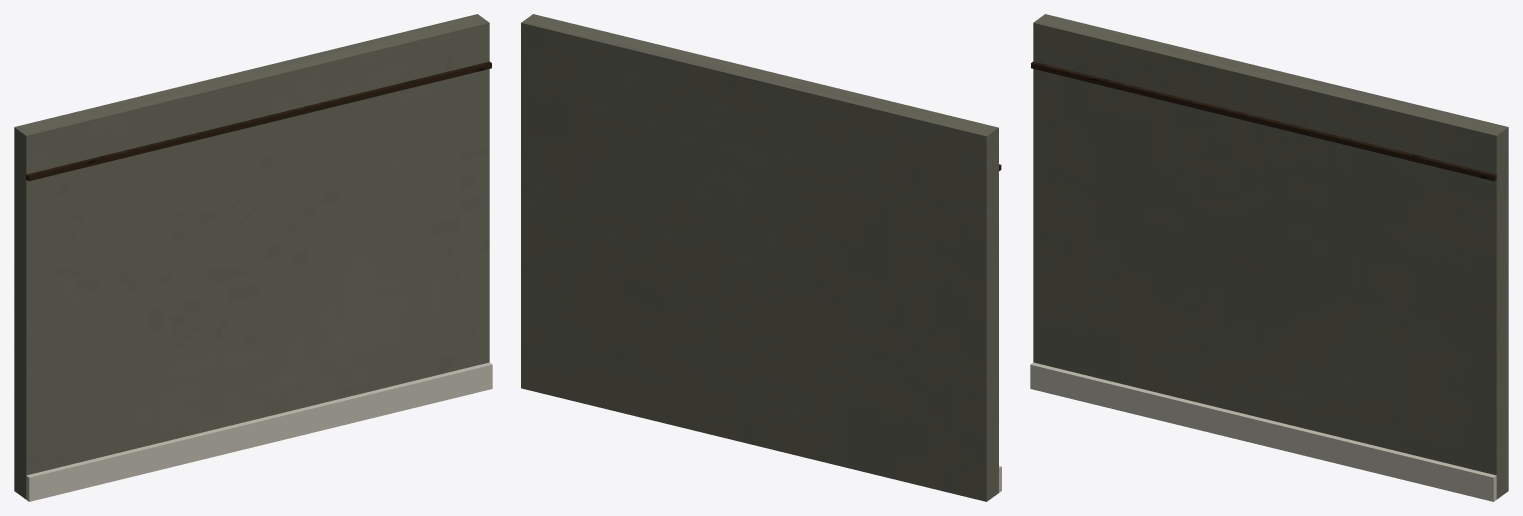
Rendered from wall-4m.glb.
3 views of the same model, side by side, from view 1: azimuth 30°, elevation 25°; view 2: azimuth 150°, elevation 25°; view 3: azimuth 330°, elevation 25° (orthographic).
Parts seen in each view (by area): view 1: Plaster, Skirting.004, Picture rail; view 2: Plaster; view 3: Plaster, Skirting.004, Picture rail.
Part boxes in pixels (x1,y1,x2,y2): Plaster: (14,14,489,499); Skirting.004: (26,362,492,501); Picture rail: (26,61,491,181); Plaster: (521,14,998,501); Plaster: (1033,14,1508,499); Skirting.004: (1030,362,1496,501); Picture rail: (1031,61,1496,181).
Bounding box in the file's own units: 4 × 3 × 0.2255.
3 materials, 2 textured.
